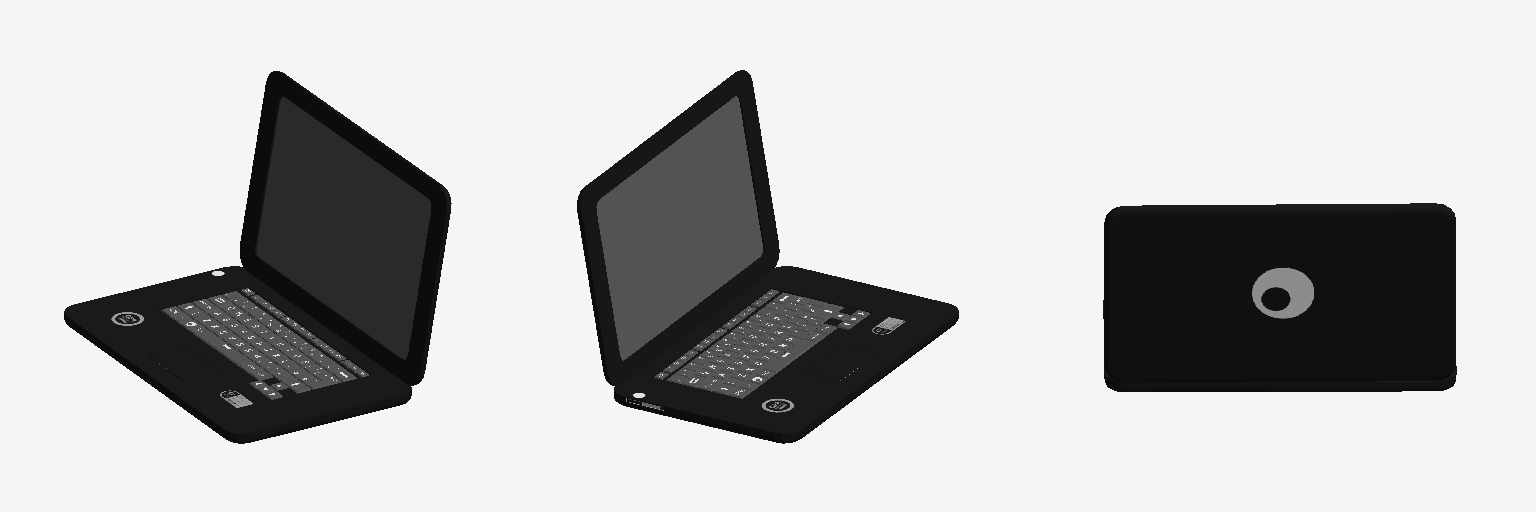
3 renders of one model, left to right at view 1: azimuth 30°, elevation 25°; view 2: azimuth 150°, elevation 25°; view 3: azimuth 270°, elevation 25°, orthographic.
Visible parts, largest first — view 1: laptop_01_screen, laptop_01, laptop_01_keyboard; view 2: laptop_01_screen, laptop_01, laptop_01_keyboard; view 3: laptop_01_screen, laptop_01.
Part boxes in pixels (left/top/right/bottom): laptop_01_screen: left=240, top=71, right=451, bottom=385; laptop_01: left=64, top=266, right=411, bottom=443; laptop_01_keyboard: left=161, top=288, right=368, bottom=399; laptop_01_screen: left=577, top=70, right=779, bottom=386; laptop_01: left=614, top=266, right=958, bottom=443; laptop_01_keyboard: left=654, top=289, right=869, bottom=398; laptop_01_screen: left=1104, top=203, right=1455, bottom=382; laptop_01: left=1103, top=300, right=1456, bottom=391.
Bounding box in the file's own units: 0.2956 × 0.2579 × 0.4045.
Materials: 3 (3 with a texture image).